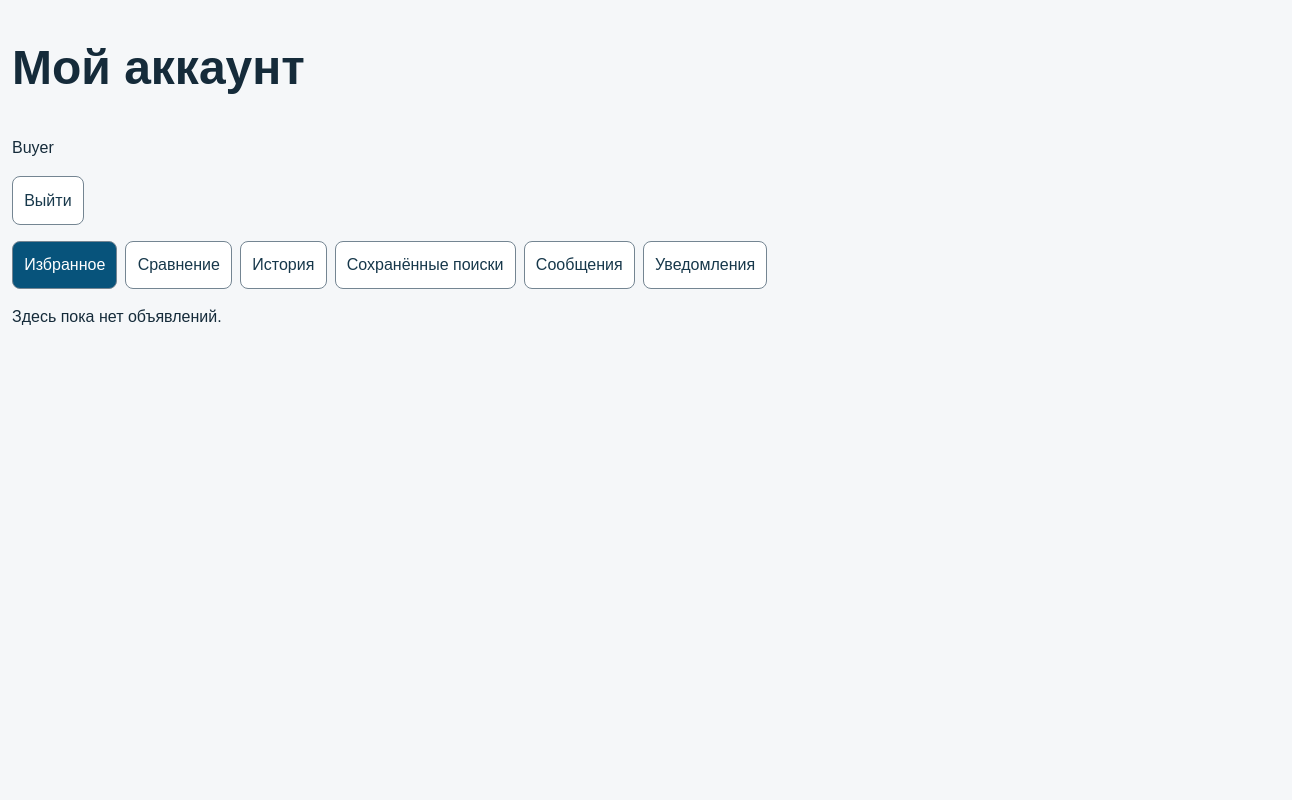
Test: Successful send refreshes the selected thread and clears its submitted draft
Expected: the text "Buyer" is shown, [12, 139, 54, 156]
Click the button "Сообщения" at (579, 265), box [524, 241, 635, 289]
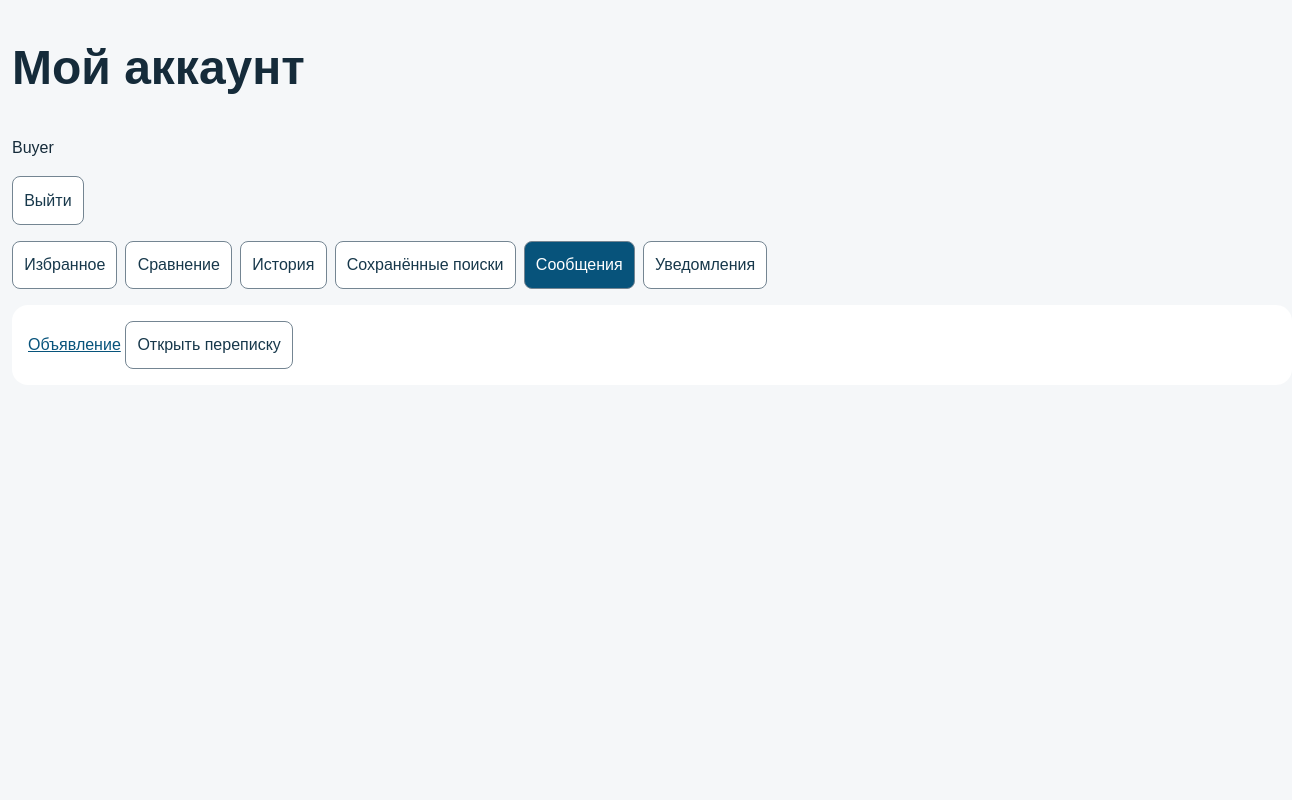
Click the button "Открыть переписку" at (209, 345), box [125, 321, 293, 370]
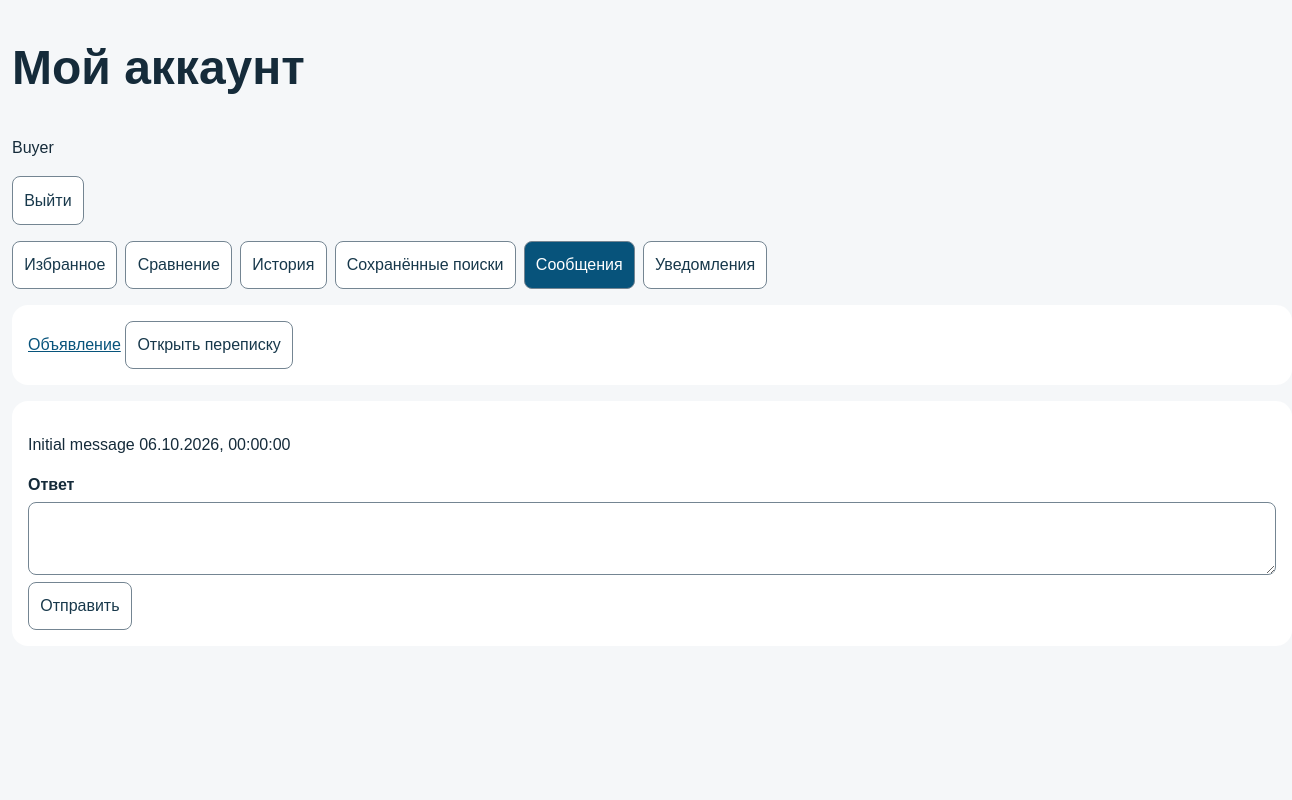
Expected: the text "Initial message" is shown, [28, 436, 135, 453]
Type "A reply" into the text box labelled "Ответ" at (652, 538), box [28, 502, 1276, 575]
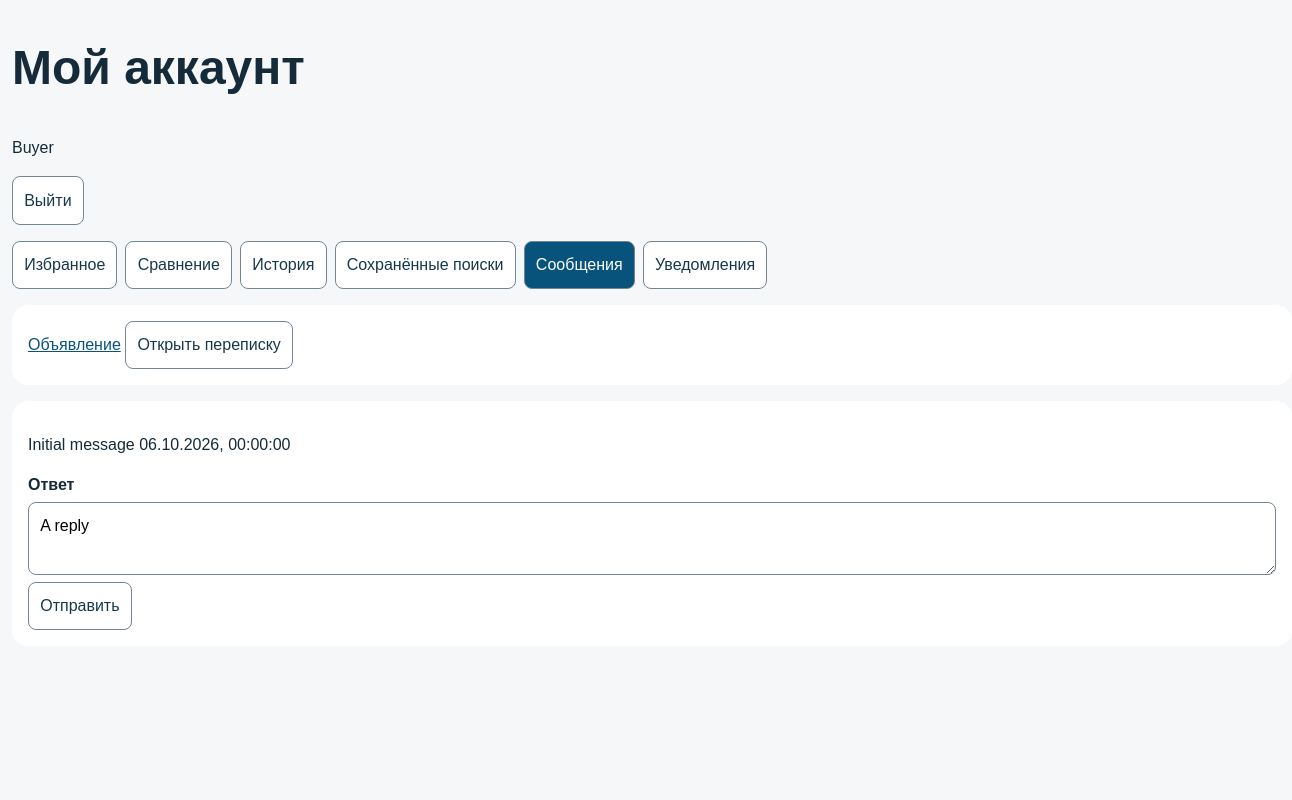
Click the button "Отправить" at (80, 606), box [28, 582, 132, 630]
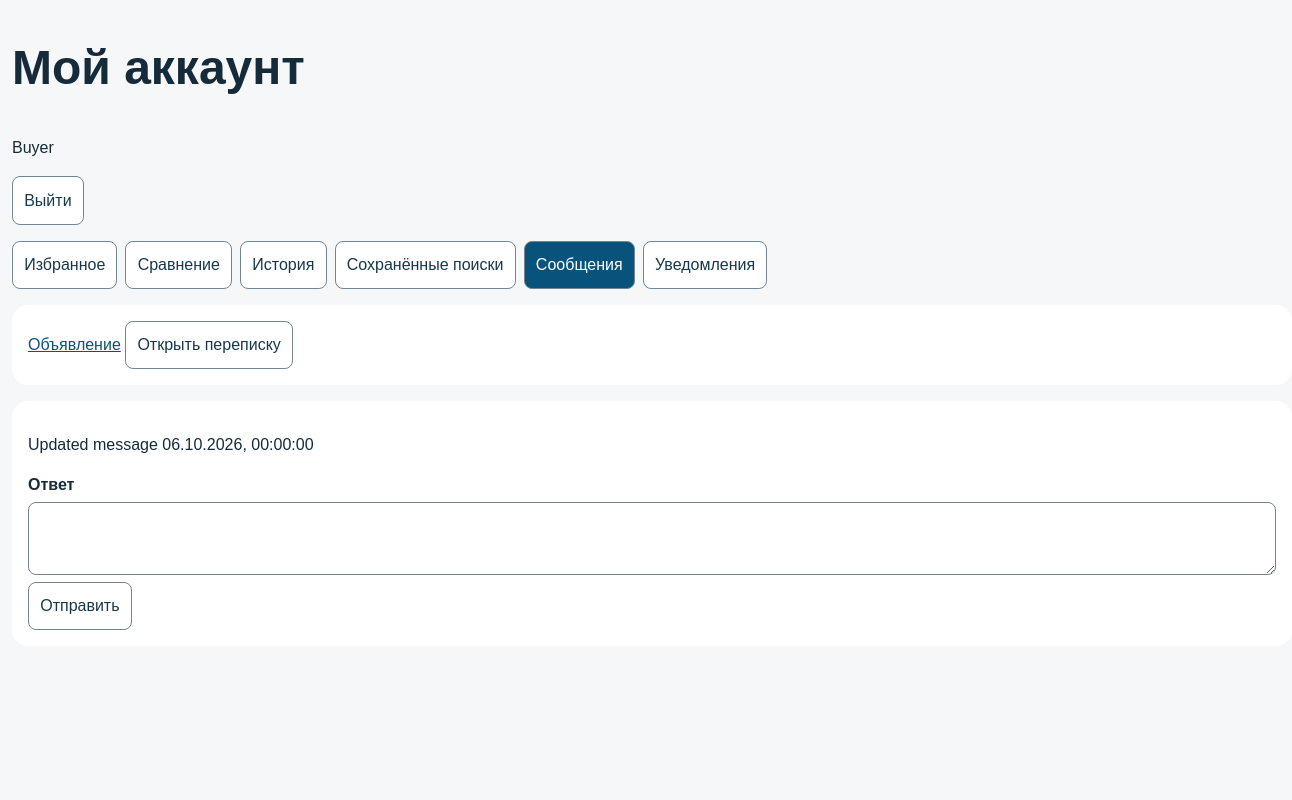
Expected: the text "Updated message" is shown, [28, 436, 158, 453]
Expected: the text box labelled "Ответ" is empty, [28, 502, 1276, 575]
